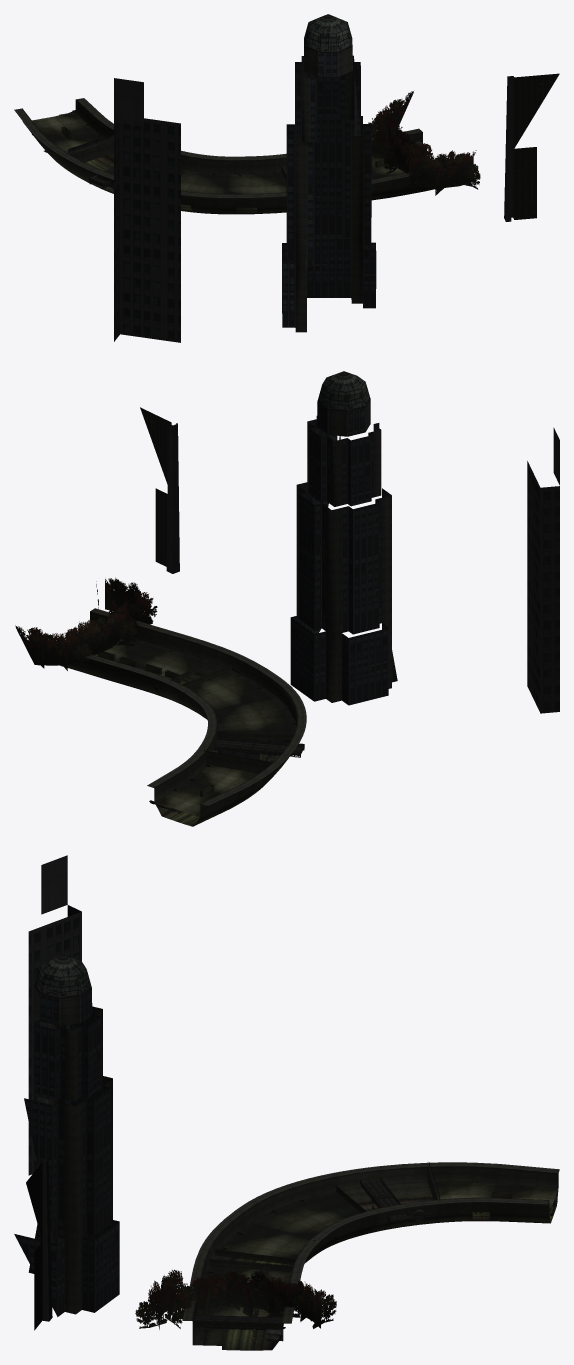
The model's file is cell_2_1.gltf.
3 views of the same model, one above another, from view 1: azimuth 30°, elevation 25°; view 2: azimuth 150°, elevation 25°; view 3: azimuth 270°, elevation 25° (orthographic). The views are drawn at different scales.
Visible parts, largest first — view 1: cell_2_1; view 2: cell_2_1; view 3: cell_2_1.
Part boxes in pixels (left/top/right/bottom): cell_2_1: left=14, top=14, right=559, bottom=342; cell_2_1: left=15, top=371, right=559, bottom=826; cell_2_1: left=14, top=855, right=559, bottom=1350.
Size of the model in its own units: 271 by 184 by 269.
35 materials, 35 textured.
